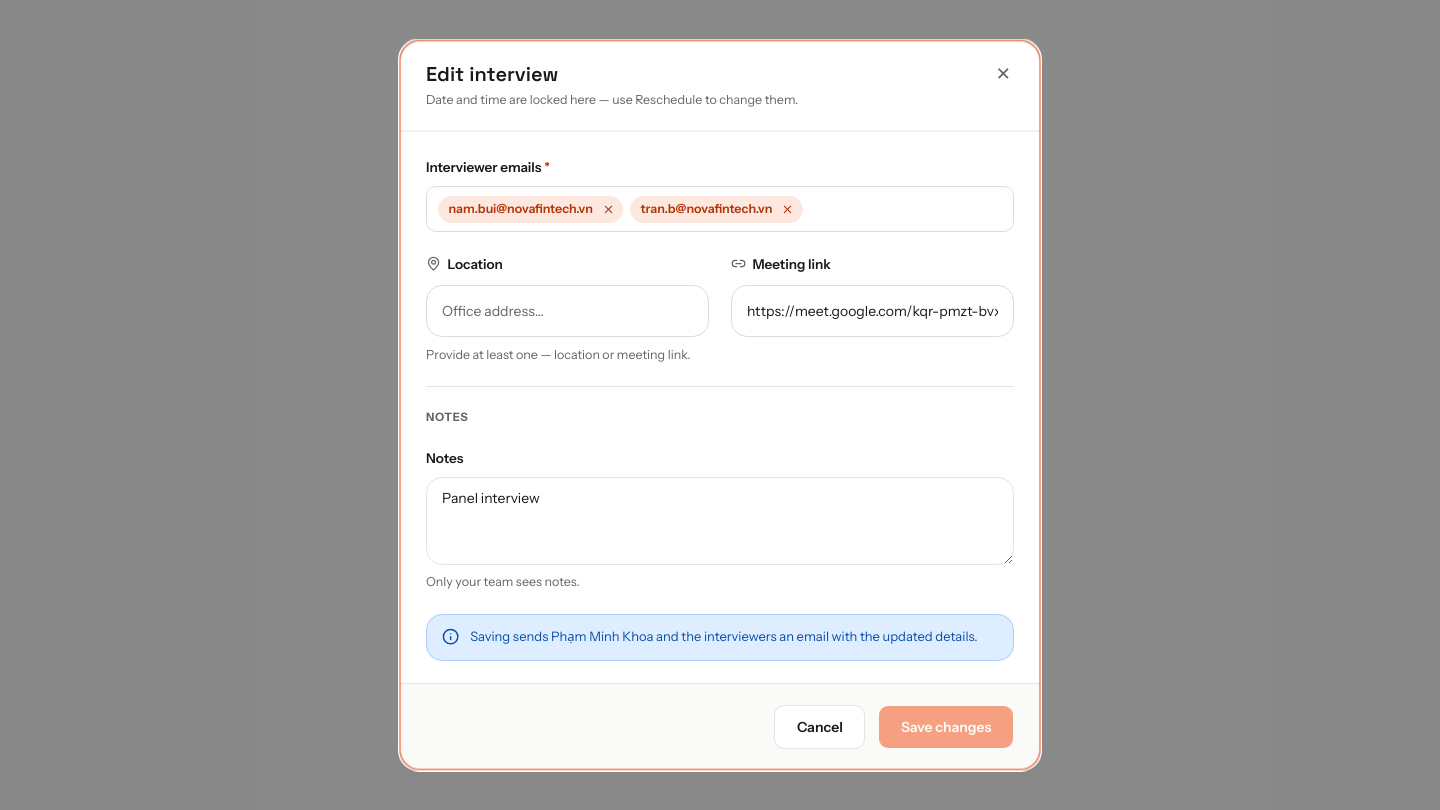
Test case: Edit interview dialog › when the API refuses › says the applicant is busy
The image size is (1440, 810).
(page scrolled)
In the text box labelled "Notes": (720, 520) [426,476,1014,564], type "!"
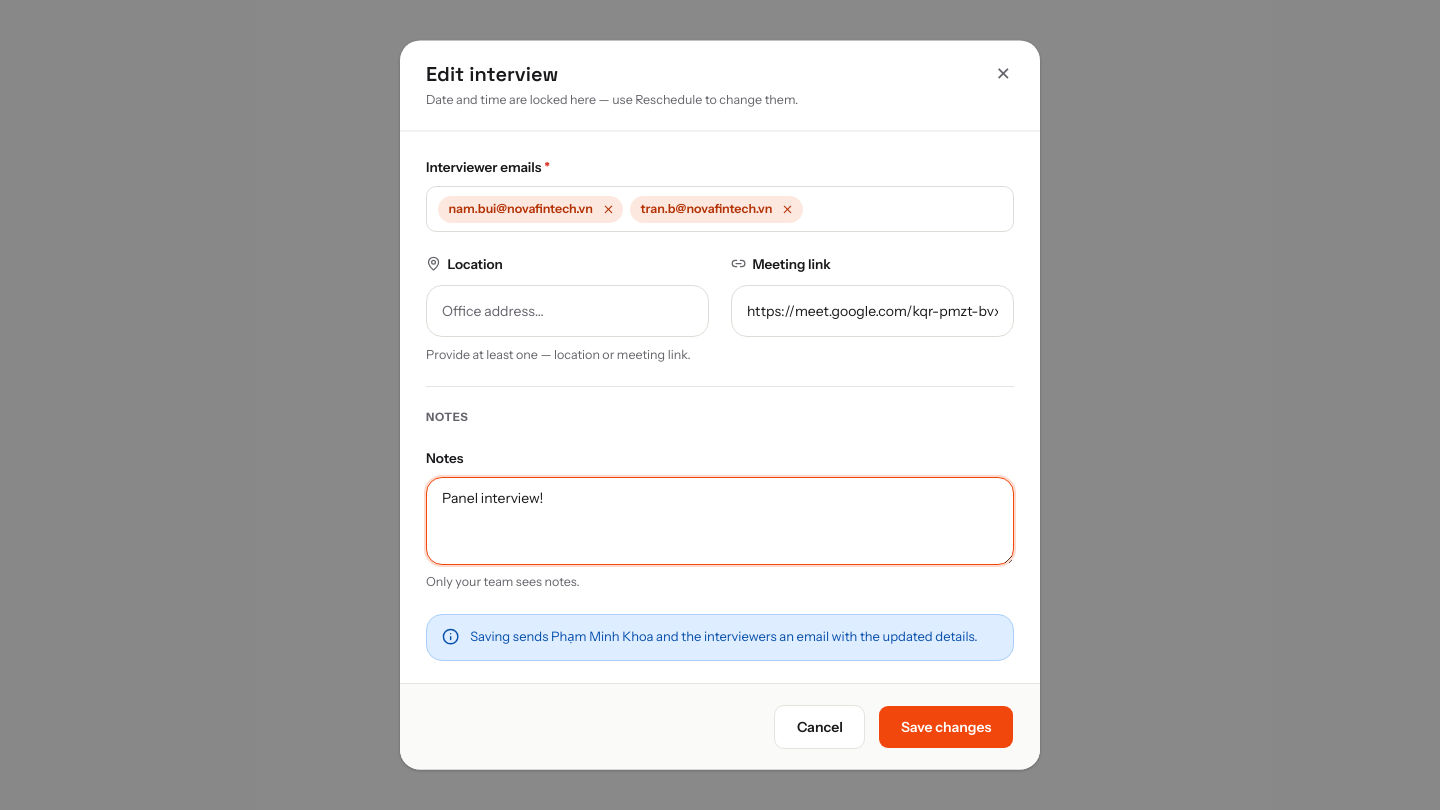
Click the button "Save changes": (946, 726) [878,705,1014,748]
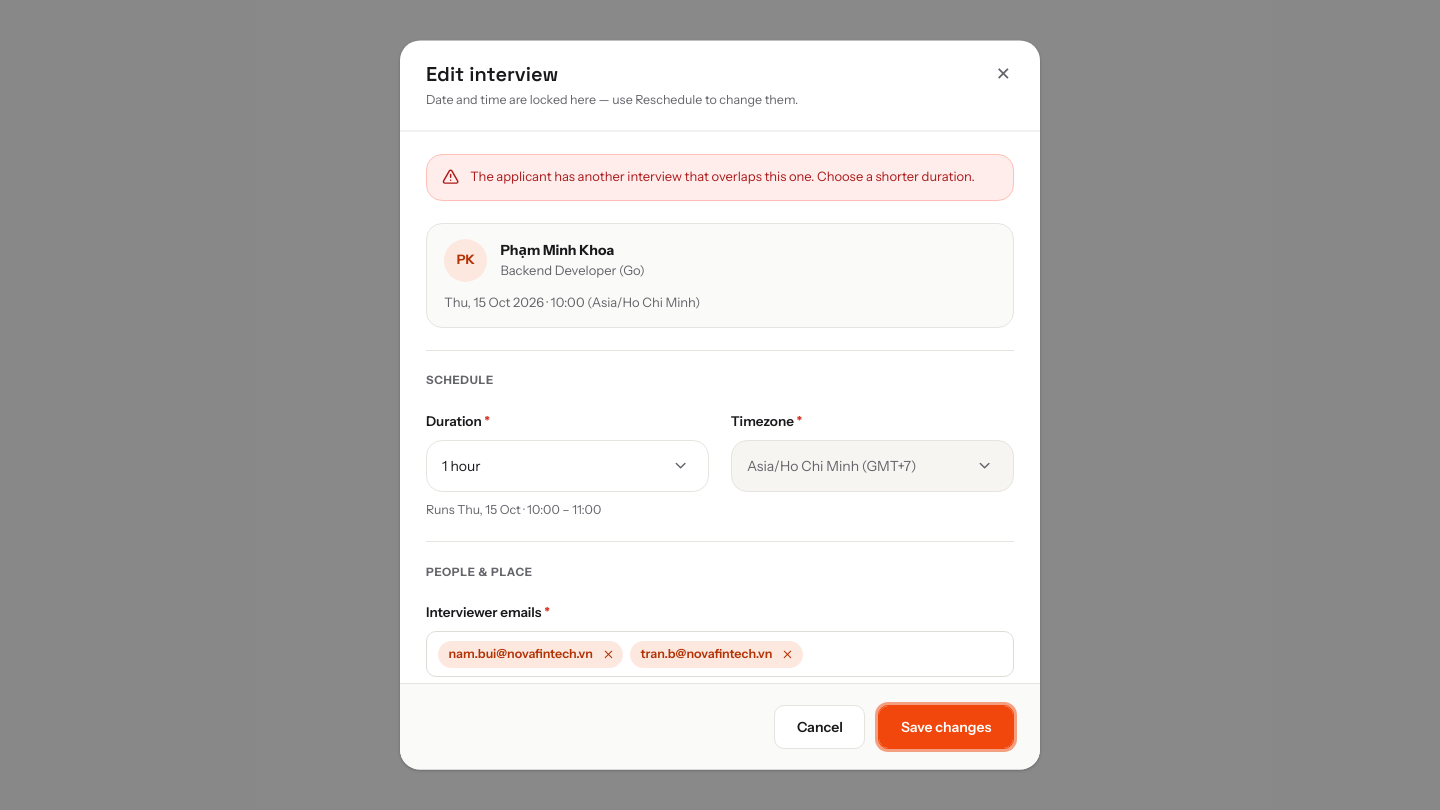
Result: the text "The applicant has another interview that overlaps this one. Choose a shorter duration." is shown at [470,168,975,184]
